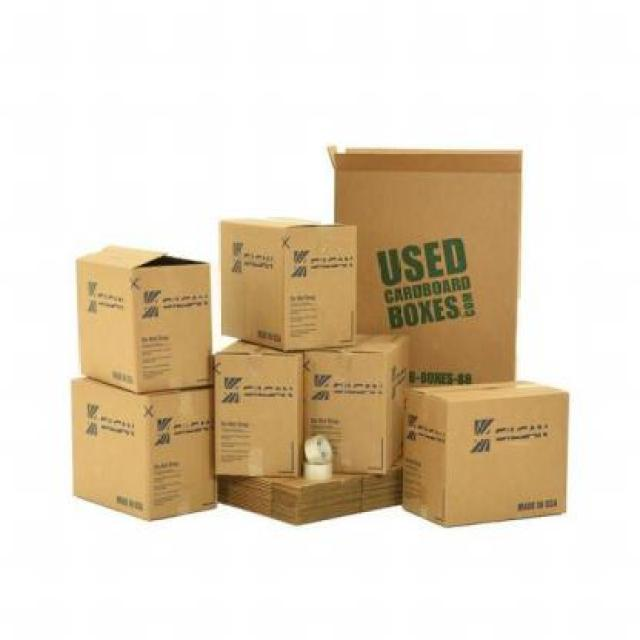box: (324, 139, 530, 402), (400, 379, 580, 535), (62, 371, 225, 533), (72, 222, 214, 395), (213, 202, 364, 352), (298, 322, 418, 496), (208, 334, 308, 478), (218, 458, 400, 530)
